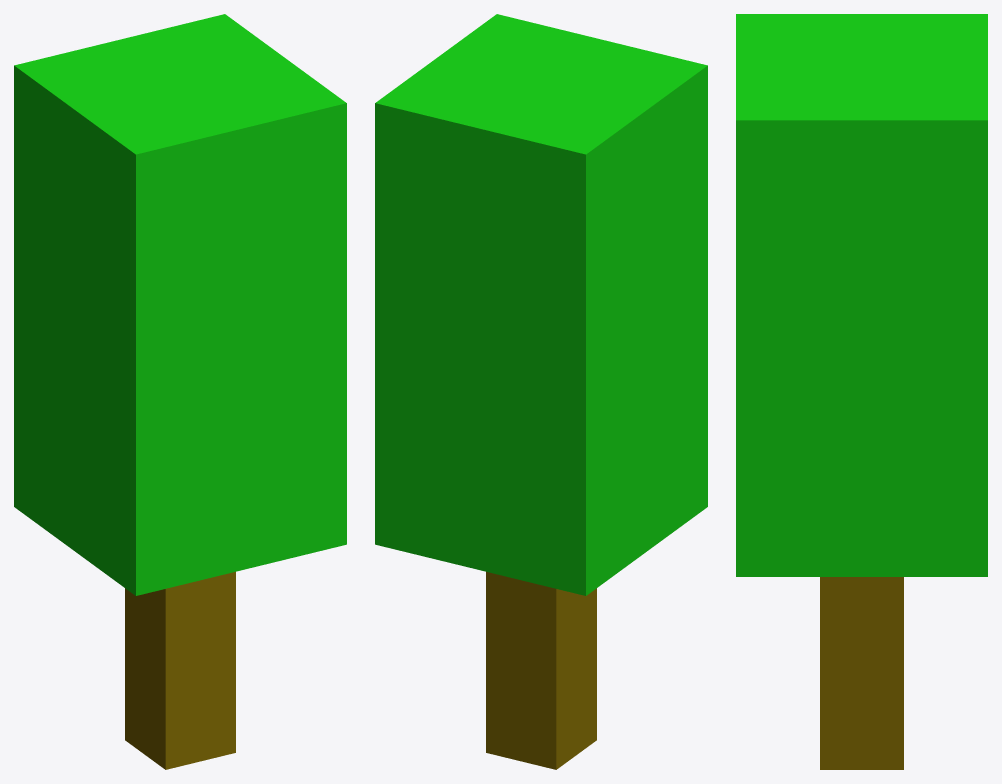
The model's file is Tree_3.fbx.
3 renders of one model, left to right at view 1: azimuth 30°, elevation 25°; view 2: azimuth 150°, elevation 25°; view 3: azimuth 270°, elevation 25°, orthographic. The views are drawn at different scales.
Visible parts, largest first — view 1: Tree_3; view 2: Tree_3; view 3: Tree_3.
Boxes of the visible parts, x1=… form: Tree_3: x1=14, y1=14, x2=346, y2=769; Tree_3: x1=375, y1=14, x2=707, y2=769; Tree_3: x1=736, y1=14, x2=987, y2=769.
Bounding box in the file's own units: 15 × 45 × 15.
Materials: 1 (1 with a texture image).
